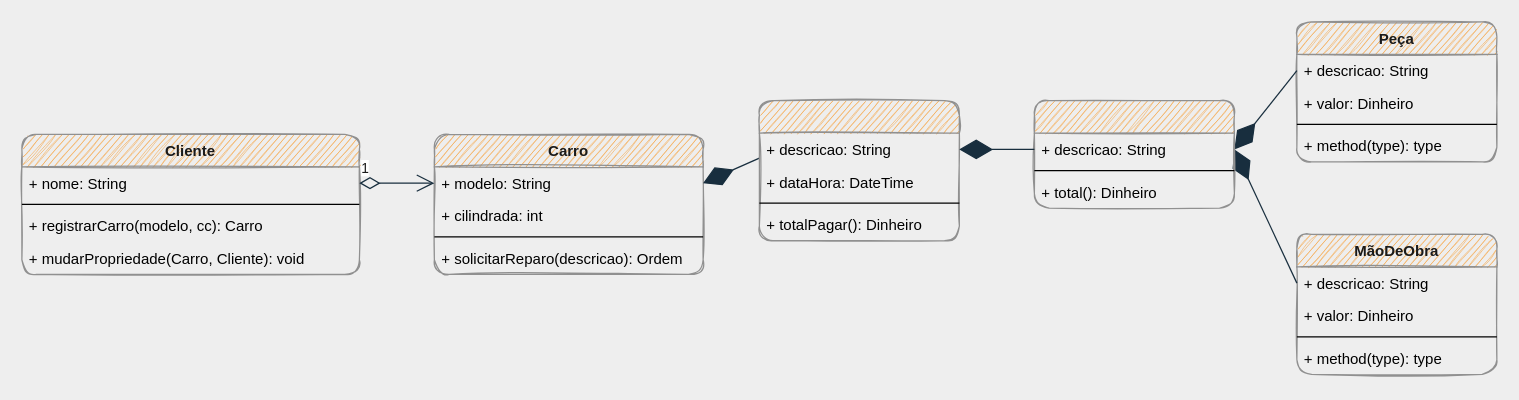
The diagram is 1519 pixels wide and 400 high, and some of its shapes have lost their labels. The shapes that lost their labels are listed below. From the top down, each one's box as (x1, y1, x2, y2) in pixels, then its label:
(758, 99, 959, 241): Ordem
(1033, 99, 1234, 208): Reparo
